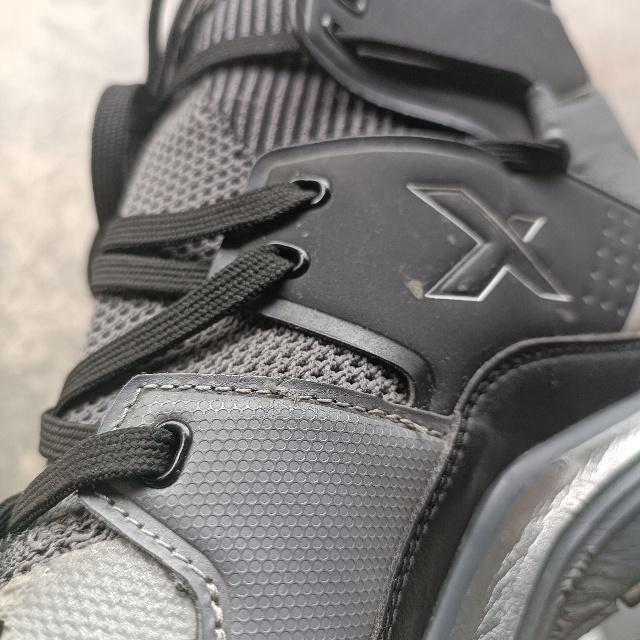broken: (270, 381, 326, 413)
